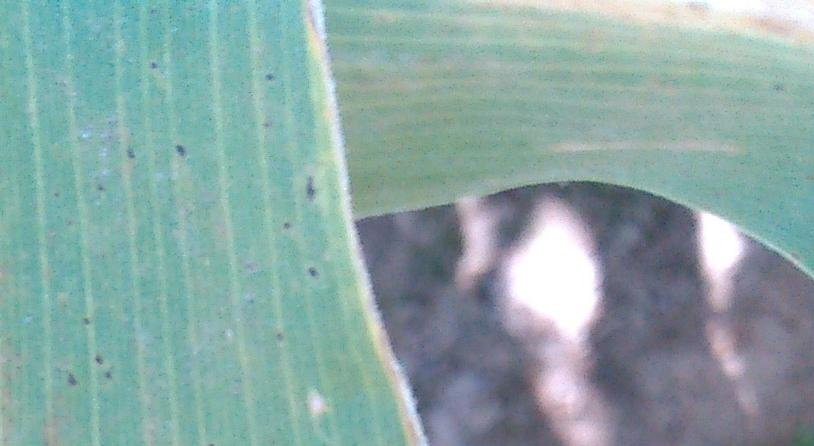tarspot: (303, 172, 318, 201), (306, 262, 321, 281), (124, 144, 138, 164), (145, 56, 162, 72), (78, 308, 92, 327), (262, 67, 276, 85), (174, 141, 186, 160), (65, 372, 80, 387), (95, 180, 107, 196), (274, 326, 285, 343), (259, 119, 274, 131), (101, 365, 113, 380), (49, 189, 63, 201), (91, 351, 103, 365), (280, 218, 292, 230)
